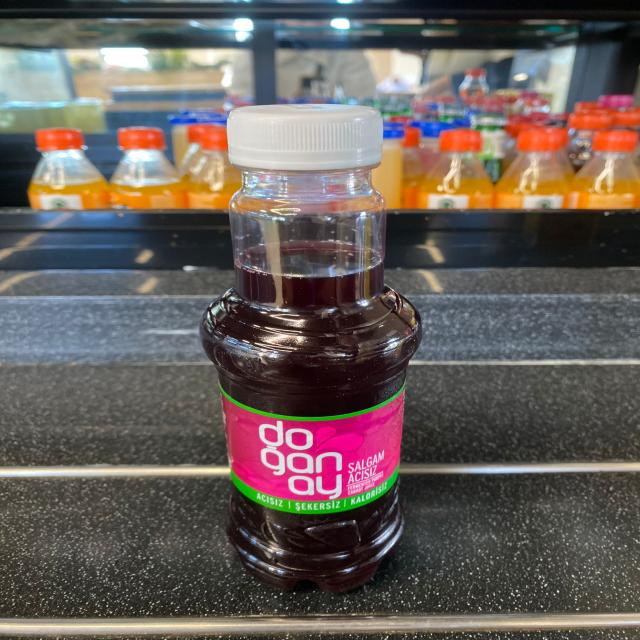yan_yemek: (198, 102, 422, 593)
